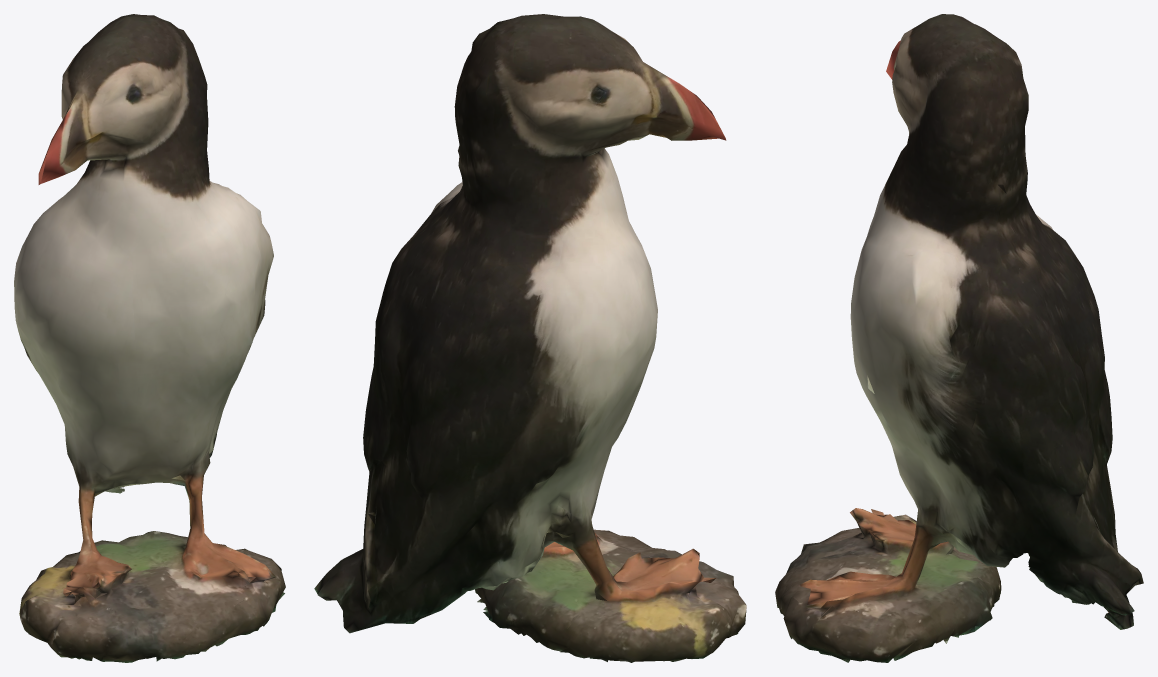
Rendered from sv_puffin.glb.
The picture shows the model from 3 angles, left to right: view 1: azimuth 30°, elevation 25°; view 2: azimuth 150°, elevation 25°; view 3: azimuth 270°, elevation 25°; orthographic projection. The views are drawn at different scales.
Parts seen in each view (by area): view 1: sv_puffin; view 2: sv_puffin; view 3: sv_puffin.
Part boxes in pixels (x1,y1,x2,y2): sv_puffin: (14, 14, 285, 662); sv_puffin: (314, 14, 746, 662); sv_puffin: (775, 14, 1143, 662).
Bounding box in the file's own units: 0.3411 × 0.6875 × 0.3847.
Materials: 2 (2 with a texture image).
